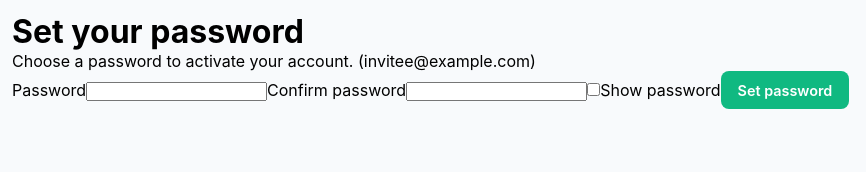
Scenario: SetPasswordPage › submits the new password for a valid invite
expect the heading "Set your password" is shown: met, box [12,12,304,51]
Type "SecurePass123" into the password field labelled "Password" at (176, 91), box [86,82,267,101]
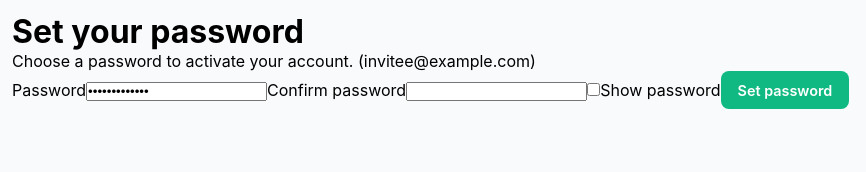
Type "SecurePass123" into the password field labelled "Confirm password" at (497, 91), box [406,82,587,101]
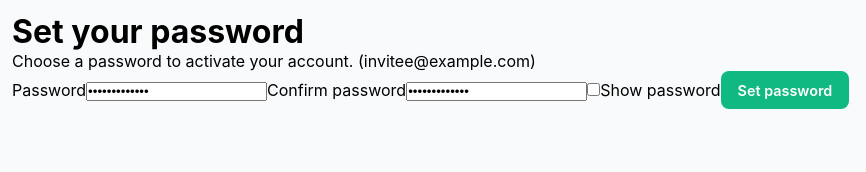
Click the button "Set password" at (785, 90), box [721,71,849,109]
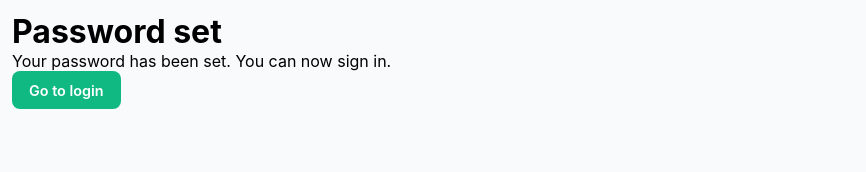
expect the heading "Password set" is shown: met, box [12,12,222,51]
